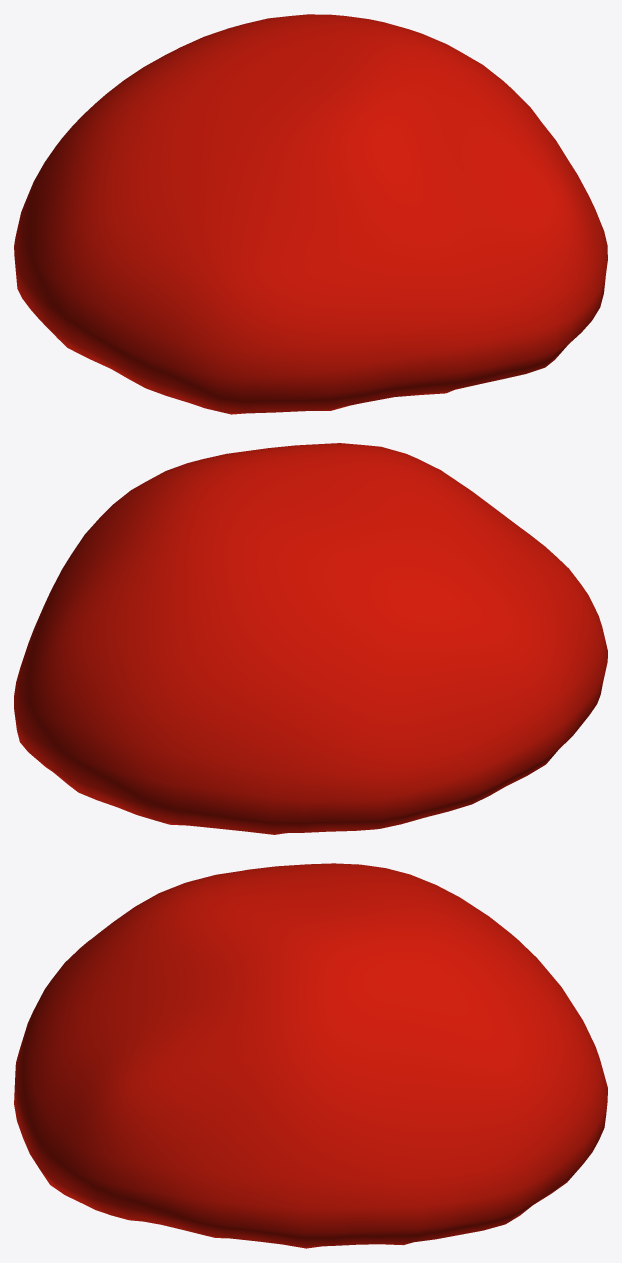
Rendered from stone1.glb.
The picture shows the model from 3 angles, top to bottom: view 1: azimuth 30°, elevation 25°; view 2: azimuth 150°, elevation 25°; view 3: azimuth 270°, elevation 25°; orthographic projection.
Visible parts, largest first — view 1: Cube; view 2: Cube; view 3: Cube.
Part boxes in pixels (bbox=[...]): Cube: bbox=[14, 14, 607, 414]; Cube: bbox=[14, 443, 607, 834]; Cube: bbox=[14, 863, 607, 1248].
Size of the model in its own units: 1.55 by 0.7969 by 1.57.
